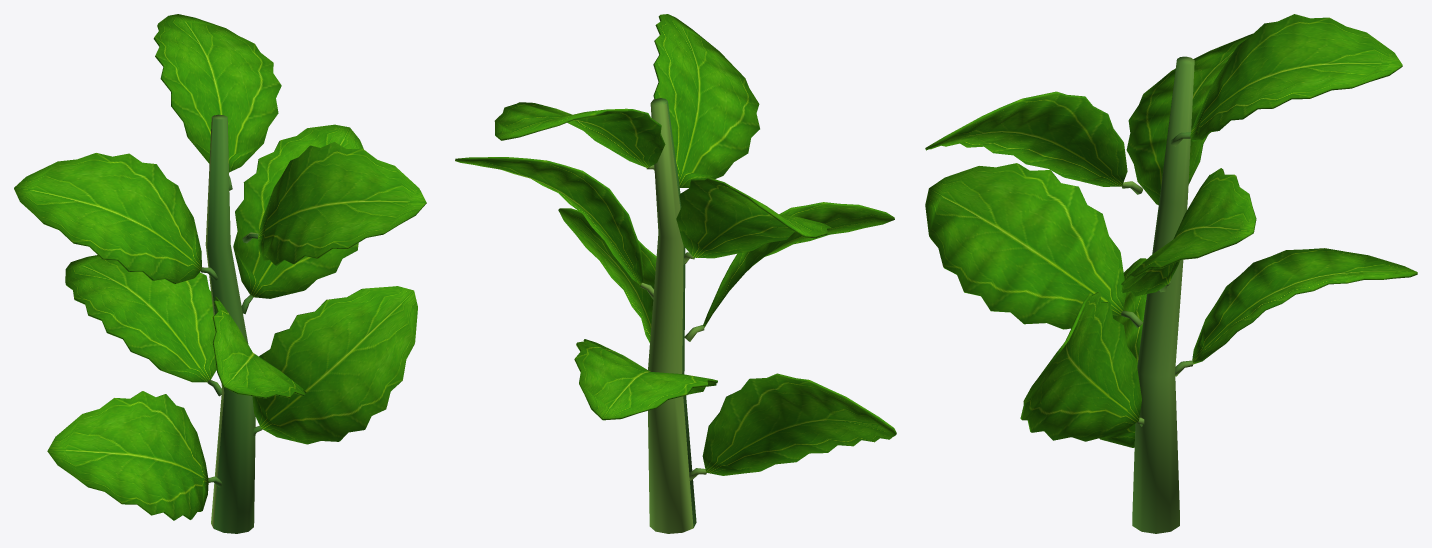
The model's file is NP_Hibiscus_Young_LOD1.fbx.
3 views of the same model, side by side, from view 1: azimuth 30°, elevation 25°; view 2: azimuth 150°, elevation 25°; view 3: azimuth 270°, elevation 25° (orthographic). The views are drawn at different scales.
Parts seen in each view (by area): view 1: NP_Hibiscus_Young; view 2: NP_Hibiscus_Young; view 3: NP_Hibiscus_Young.
Boxes of the visible parts, x1,y1,x2,y2 form: NP_Hibiscus_Young: (14, 14, 426, 533); NP_Hibiscus_Young: (455, 14, 896, 533); NP_Hibiscus_Young: (925, 14, 1417, 533).
Bounding box in the file's own units: 32.14 × 37.59 × 33.3.
